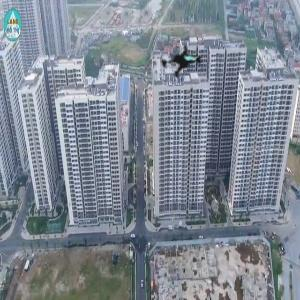drone: (135, 18, 230, 113)
